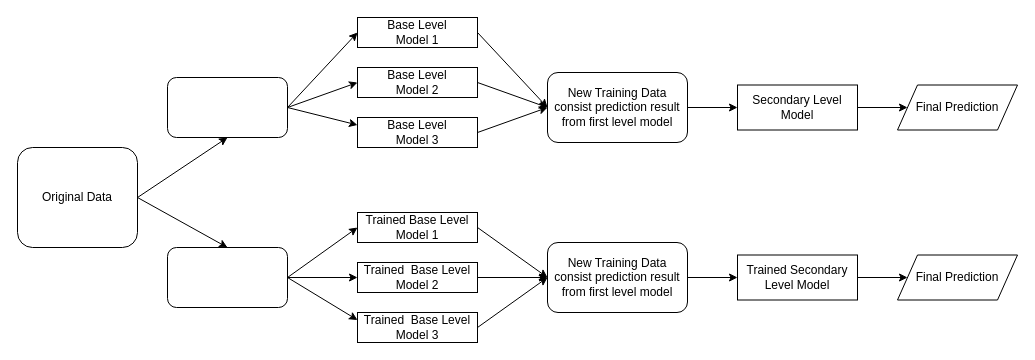
The diagram is 1035 pixels wide and 360 high, and some of its shapes have lost their labels. The shapes that lost their labels are listed below. From the top down, each one's centre as x and y in pixels, then its label:
At point 227,107: "Training Data".
At point 227,277: "Test Data".
